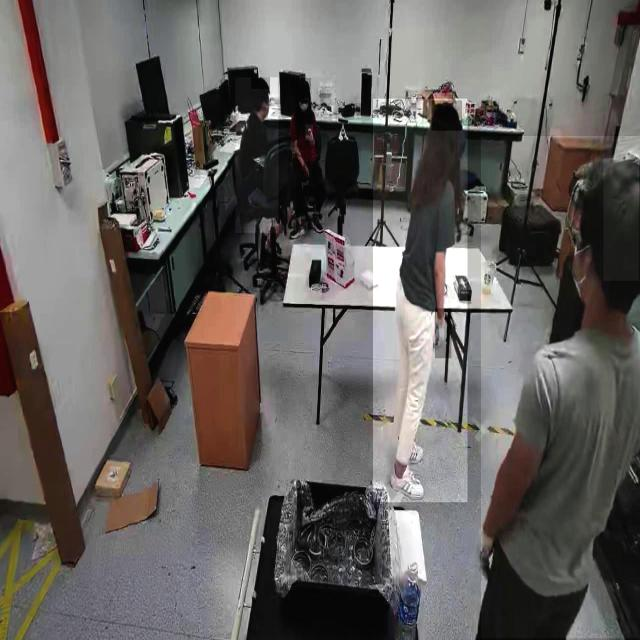face_mask: (298, 90, 312, 111)
hand_glove: (434, 309, 452, 359)
hand_noglove: (303, 162, 311, 180), (305, 125, 313, 142)
head_nohelmet: (603, 158, 639, 282), (431, 100, 462, 132), (250, 77, 270, 90), (297, 78, 311, 91)
person: (480, 136, 640, 639), (372, 99, 468, 503), (235, 77, 279, 234), (296, 77, 326, 243)
shoes: (387, 461, 427, 506), (399, 432, 429, 468)
